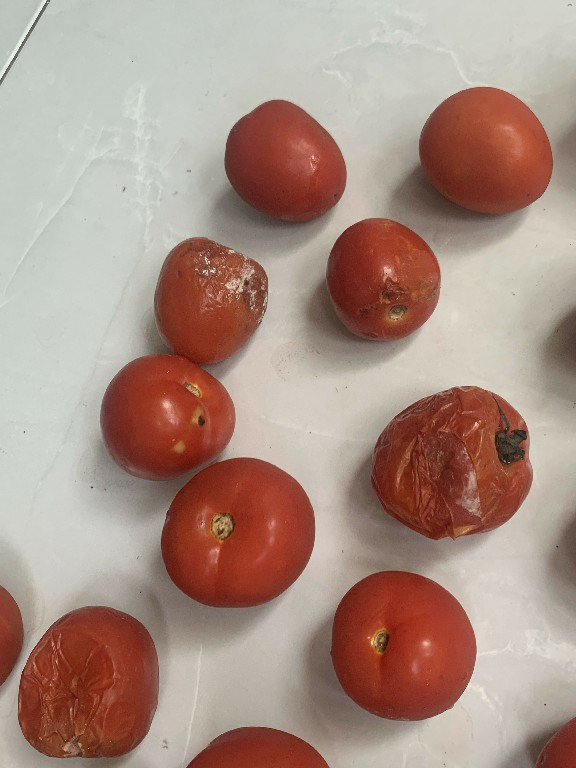NG: (364, 376, 537, 550), (9, 597, 165, 765), (96, 346, 242, 484), (147, 225, 273, 367), (322, 209, 444, 347)
OK: (154, 454, 325, 619), (323, 559, 481, 728), (405, 70, 555, 221), (212, 87, 349, 230)
